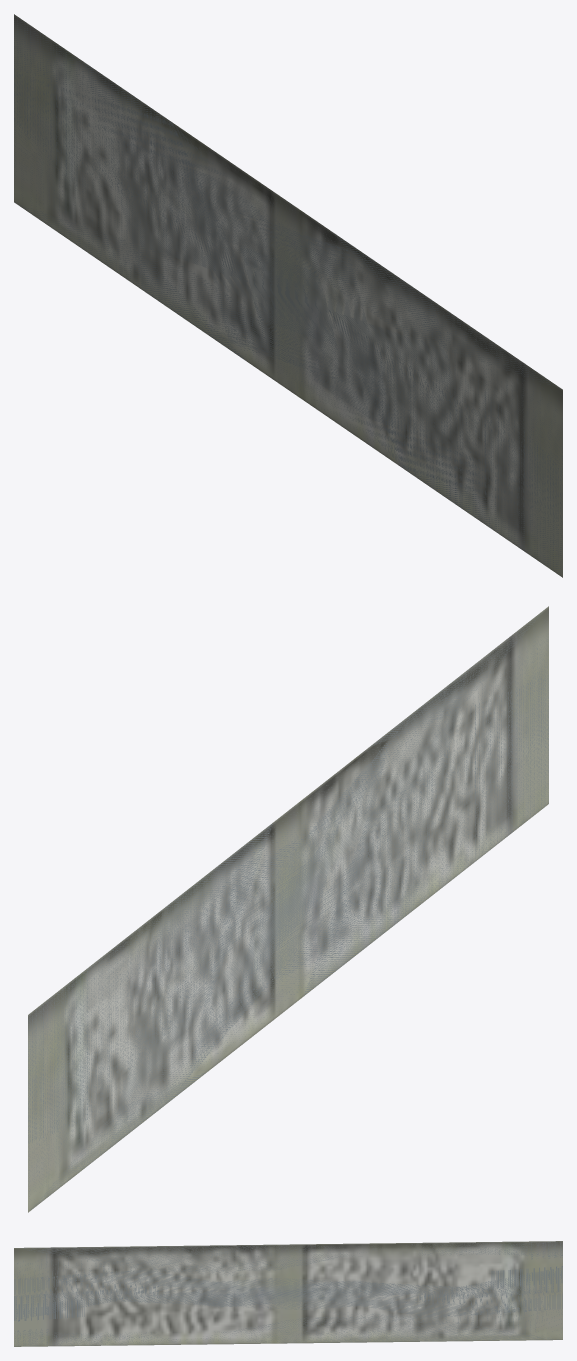
Rendered from 人民英雄纪念碑115.dae.
3 renders of one model, top to bottom at view 1: azimuth 30°, elevation 25°; view 2: azimuth 150°, elevation 25°; view 3: azimuth 270°, elevation 25°, orthographic. The views are drawn at different scales.
Parts seen in each view (by area): view 1: SketchUp; view 2: SketchUp; view 3: SketchUp.
Part boxes in pixels (x1,y1,x2,y2): SketchUp: [14, 14, 562, 577]; SketchUp: [28, 606, 548, 1212]; SketchUp: [14, 1241, 562, 1346].
Bounding box in the file's own units: 15.99 × 539 × 107.
